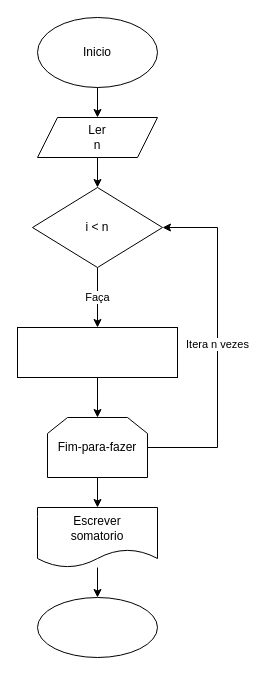
Image size: 266x675. Some labels were removed from this diagram. The shapes that lost their labels are listed below. From the top down, each one's centre as x and y in pixels, then its label:
[97,352]: Somatorio <- Somatorio + i
[97,627]: Fim
